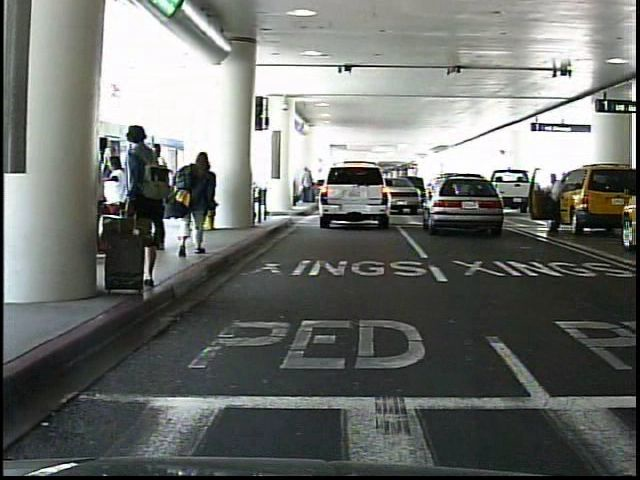person: (109, 120, 161, 290), (179, 146, 220, 261), (143, 142, 174, 246), (175, 158, 201, 233), (542, 175, 565, 235)
